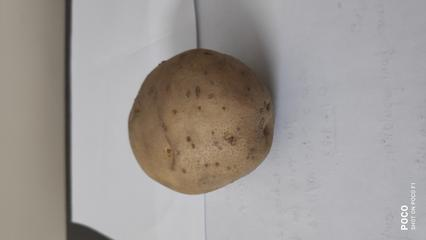potato: (120, 30, 284, 176)
